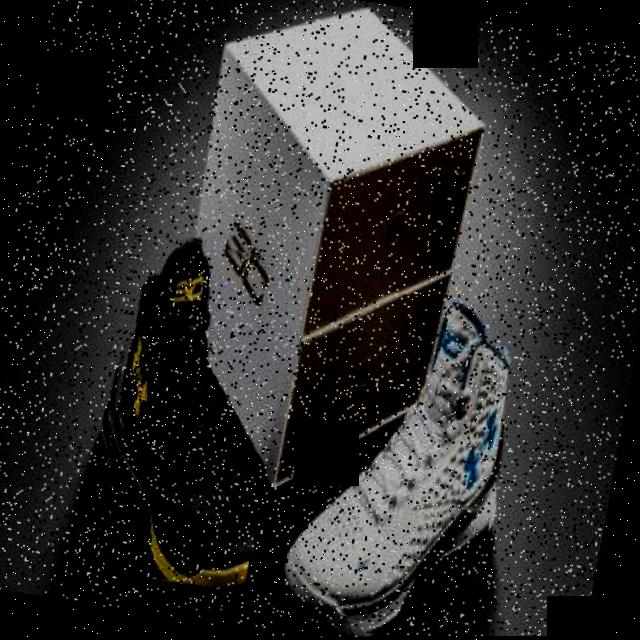shoe: (274, 281, 529, 638), (74, 226, 305, 594)
